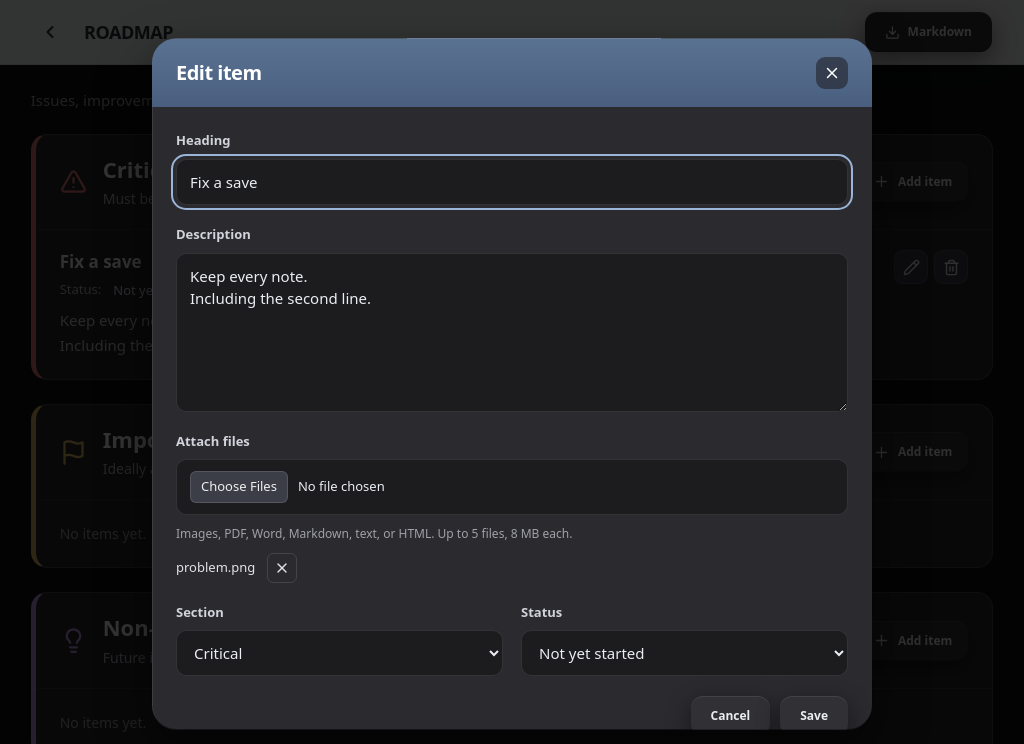
Scenario: Chronicle Roadmap › stages a screenshot until Save, then keeps its saved reference and renders it
The width and height of the screenshot is (1024, 744).
Earlier steps of the test are not shown.
Expected: the text "problem.png" is shown, [176,558,255,578]
Click the button "Save" at (814, 716), box [780,696,848,736]
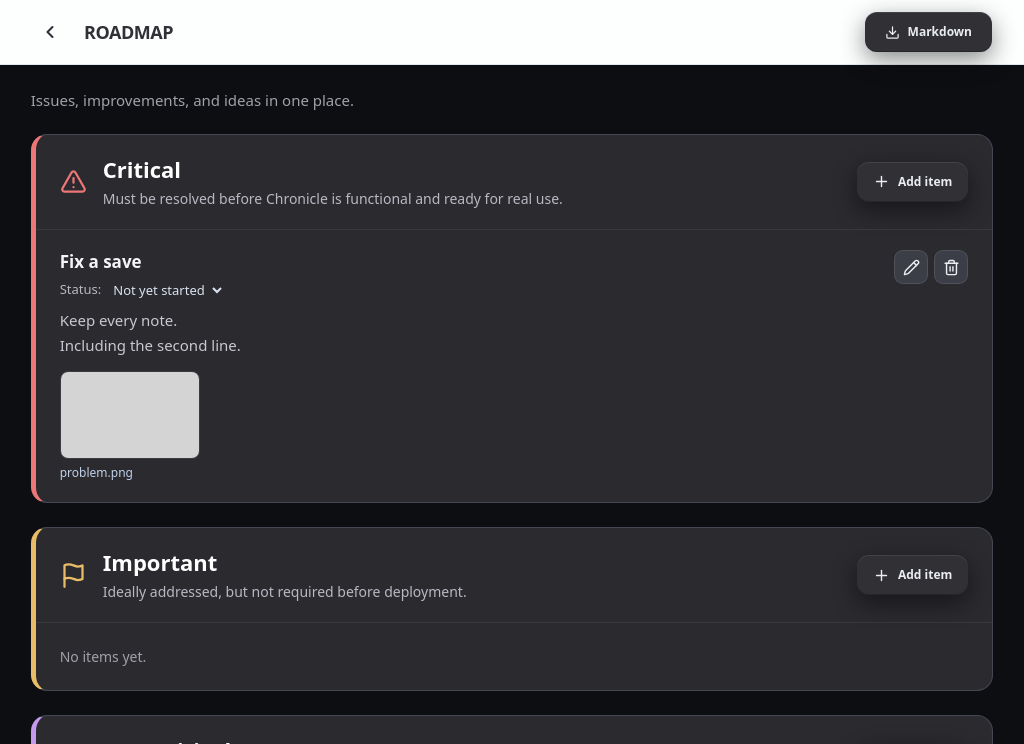
Expected: the dialog is gone
